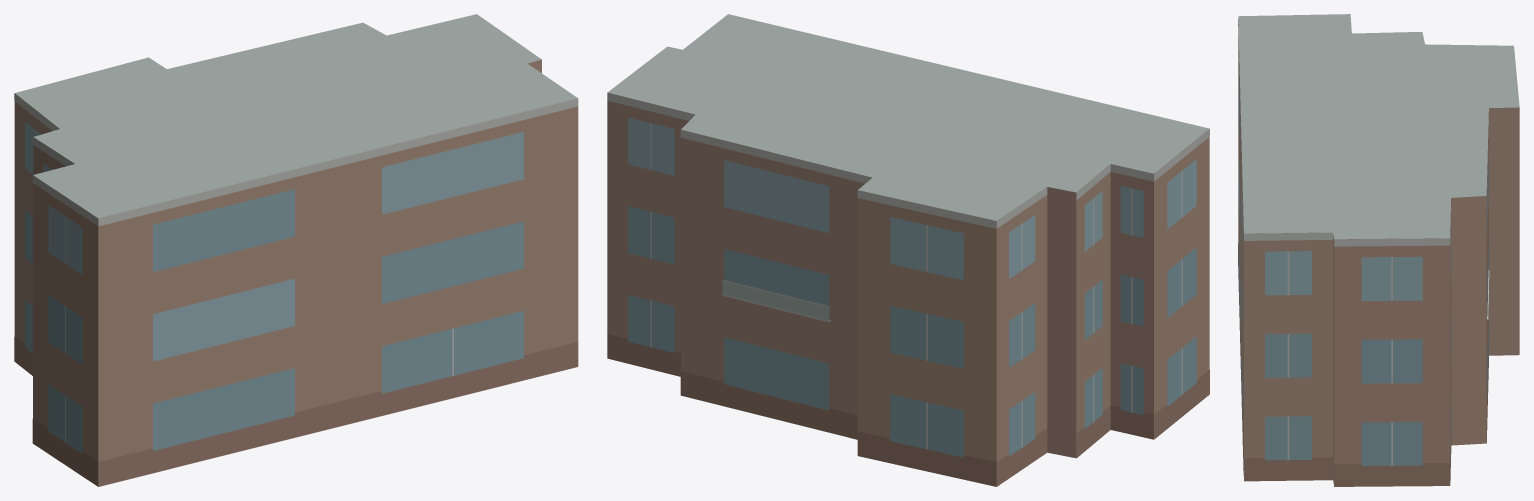
File: survey-upis-32581714.glb
3 renders of one model, left to right at view 1: azimuth 30°, elevation 25°; view 2: azimuth 150°, elevation 25°; view 3: azimuth 270°, elevation 25°, orthographic. The views are drawn at different scales.
Parts seen in each view (by area): view 1: survey-upis-32581714.tmp; view 2: survey-upis-32581714.tmp; view 3: survey-upis-32581714.tmp.
Boxes of the visible parts, x1,y1,x2,y2 form: survey-upis-32581714.tmp: (14,14,578,486); survey-upis-32581714.tmp: (607,14,1209,486); survey-upis-32581714.tmp: (1238,14,1519,486).
Bounding box in the file's own units: 16 × 8.2 × 8.46.
